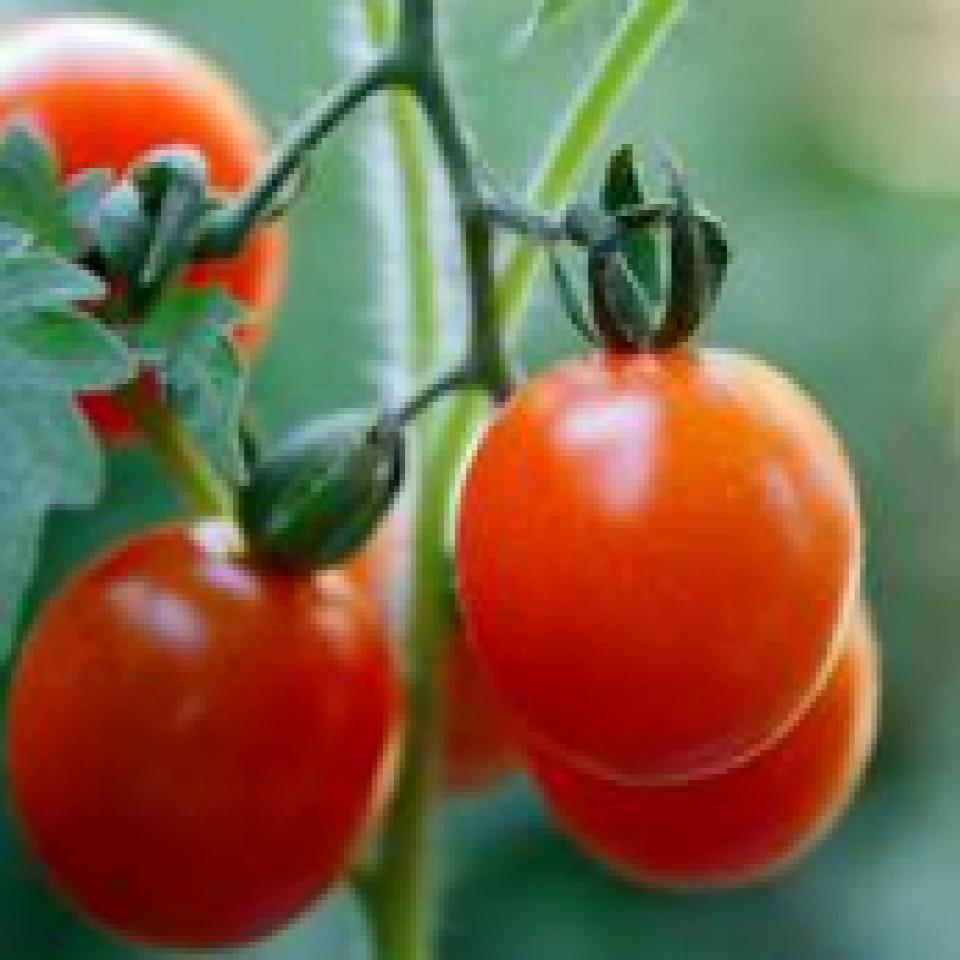Healthy: (448, 348, 860, 784), (0, 523, 410, 941), (0, 6, 297, 429), (532, 614, 880, 889)
